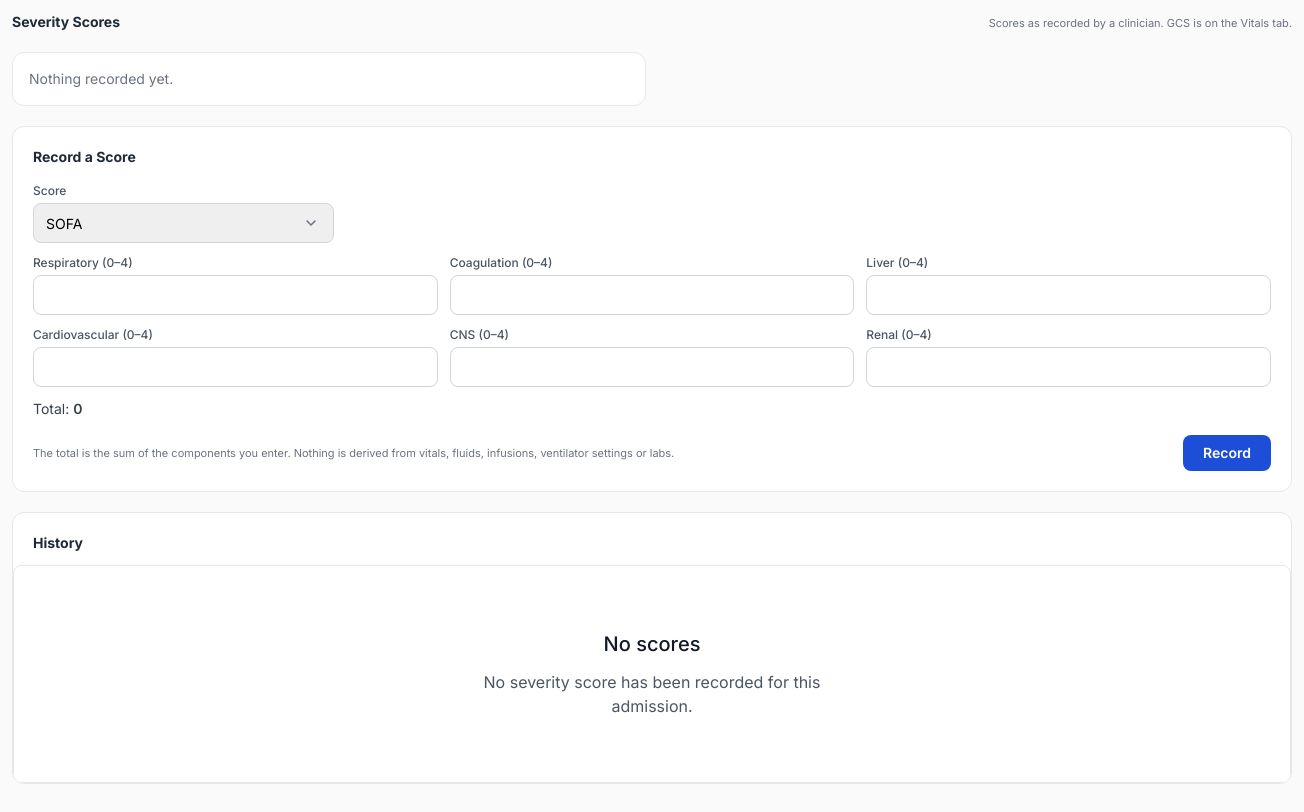
it: SeverityScorePanel — ICU severity scores (ICU-8) › shows the running total as the sum of the boxes on screen
Check: the heading "Record a Score" is shown, box x1=33 y1=148 x2=136 y2=165
Type "2" into the number field labelled "Respiratory (0–4)" at (235, 295), box x1=33 y1=275 x2=438 y2=315
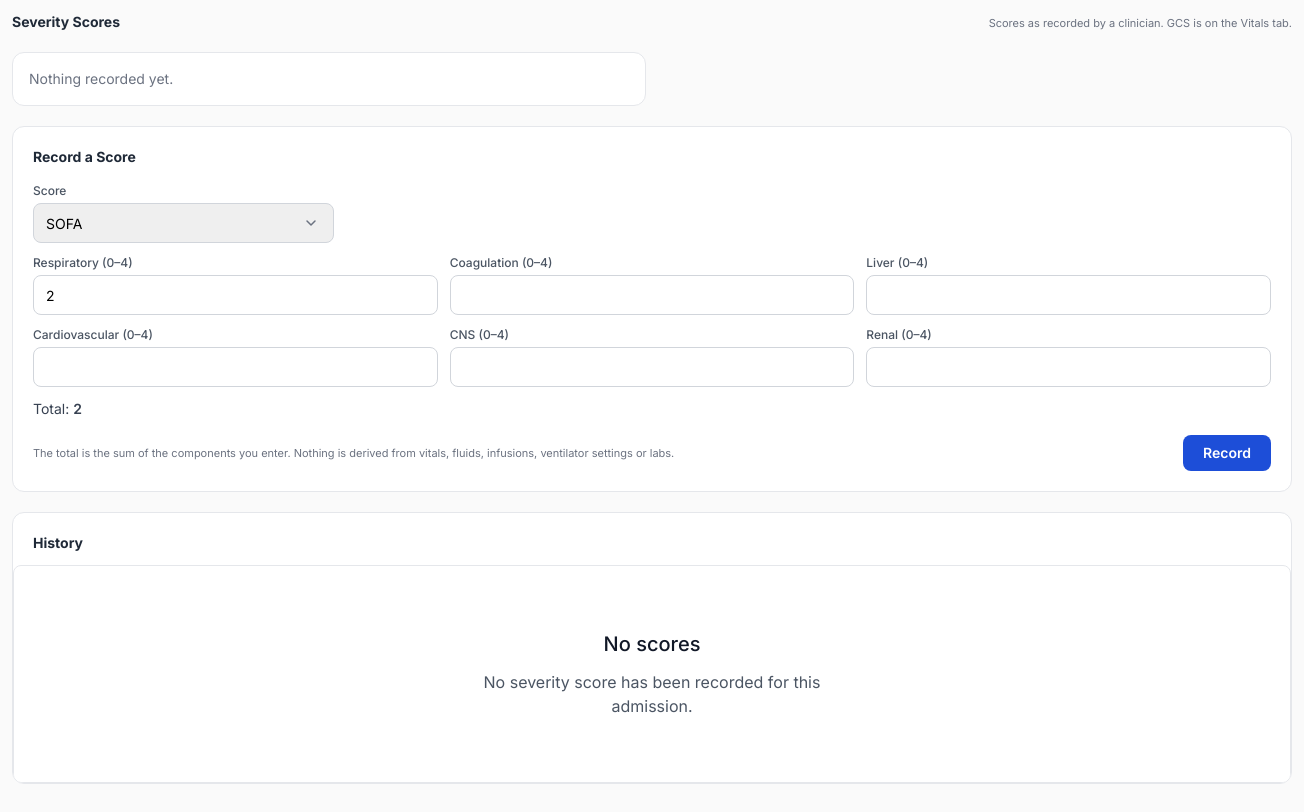
Type "3" into the number field labelled "Cardiovascular (0–4)" at (235, 367), box x1=33 y1=347 x2=438 y2=387
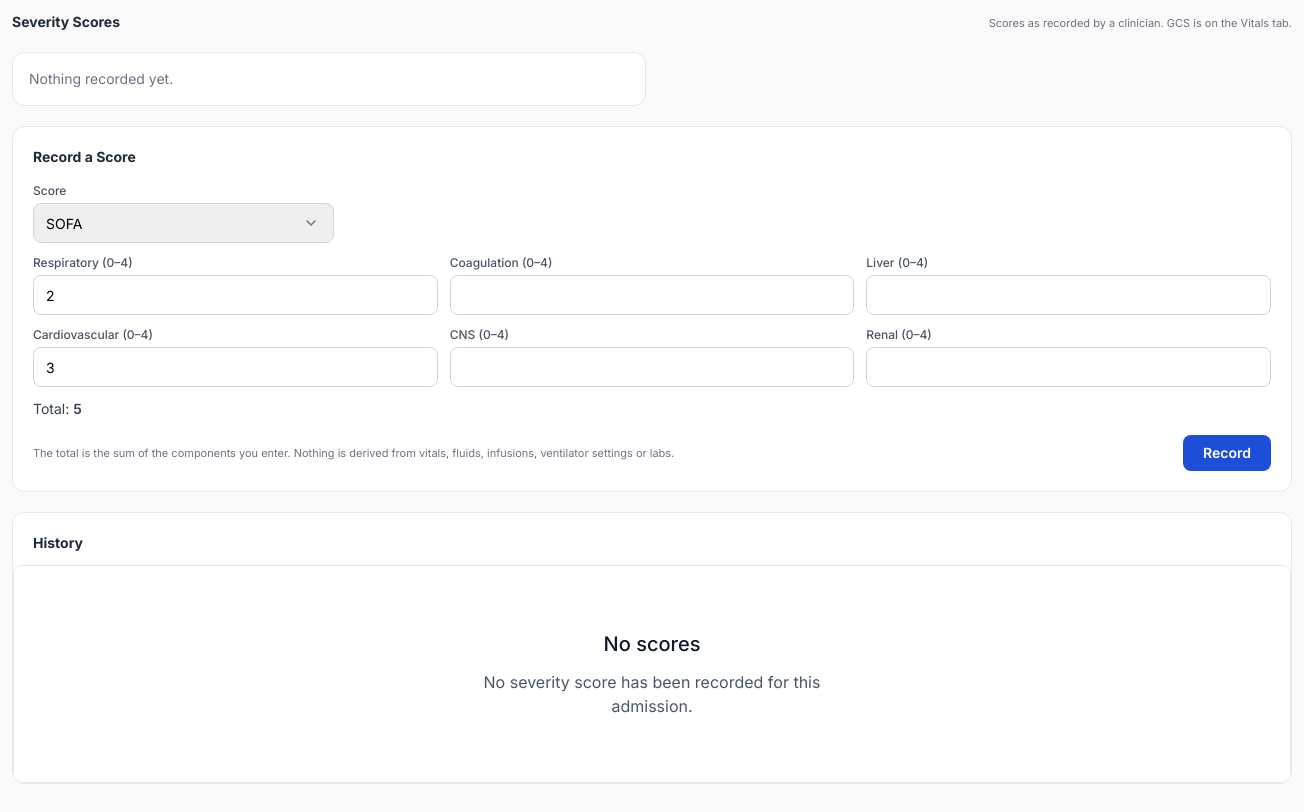
Type "2" into the number field labelled "Renal (0–4)" at (1069, 367), box x1=866 y1=347 x2=1271 y2=387
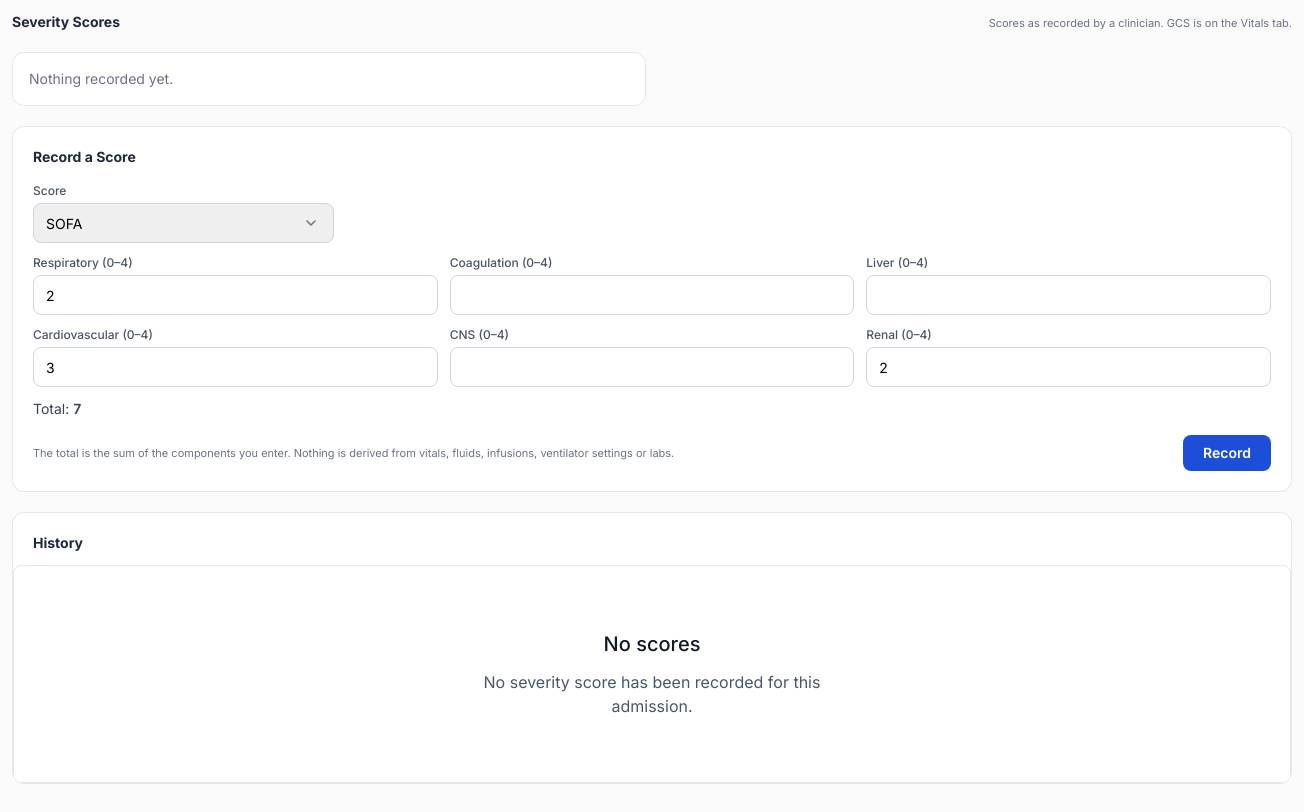
Check: the text "7" is shown, box x1=73 y1=400 x2=81 y2=417
